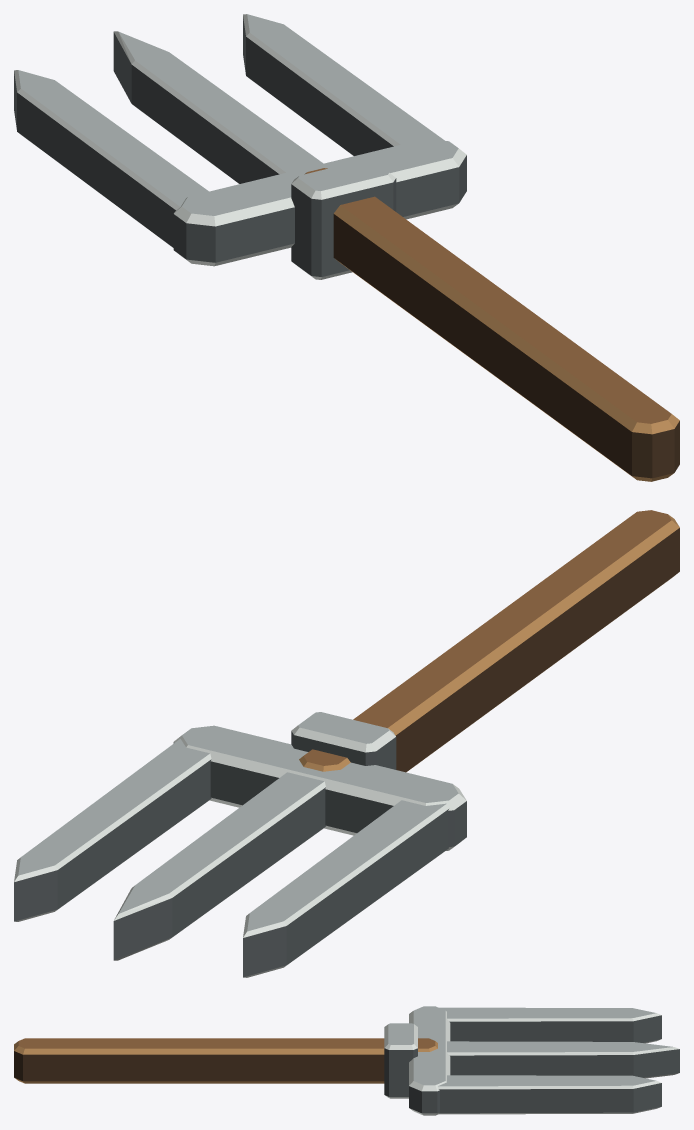
File: pitchfork.fbx
3 views of the same model, one above another, from view 1: azimuth 30°, elevation 25°; view 2: azimuth 150°, elevation 25°; view 3: azimuth 270°, elevation 25° (orthographic). The views are drawn at different scales.
Visible parts, largest first — view 1: pitchfork; view 2: pitchfork; view 3: pitchfork.
Part boxes in pixels (x1=…): pitchfork: x1=14, y1=14, x2=679, y2=481; pitchfork: x1=14, y1=510, x2=679, y2=977; pitchfork: x1=14, y1=1006, x2=679, y2=1115.
Size of the model in its own units: 0.76 by 0.23 by 2.58.
1 material, 1 textured.
